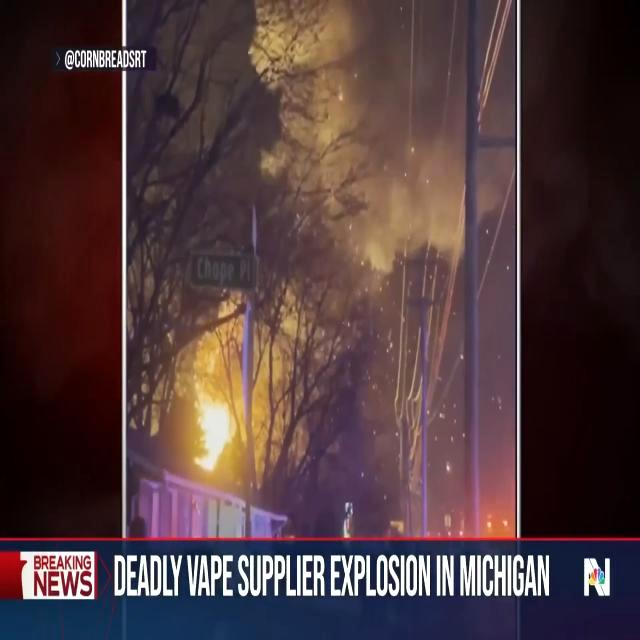fire: (172, 300, 276, 484)
